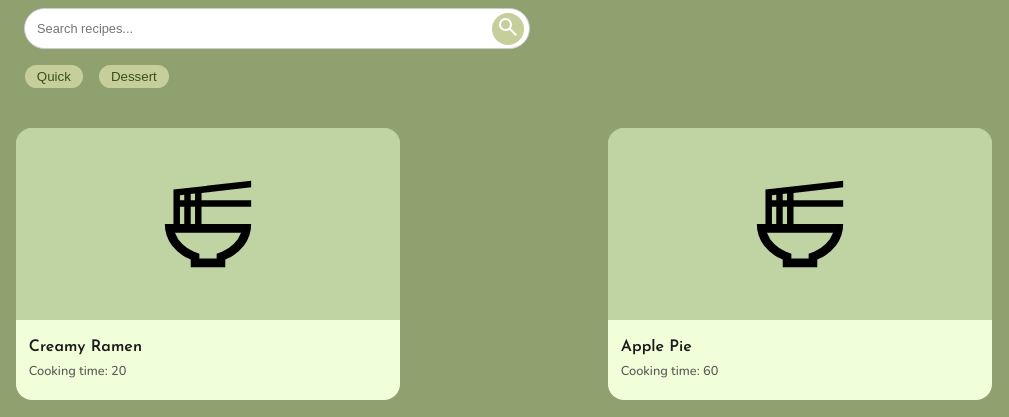
Test: Mainpage › filters recipes by search text and tags
Type "ramen" into the field with placeholder "Search recipes..." at (277, 28), box top-left (24, 8), bottom-right (530, 49)
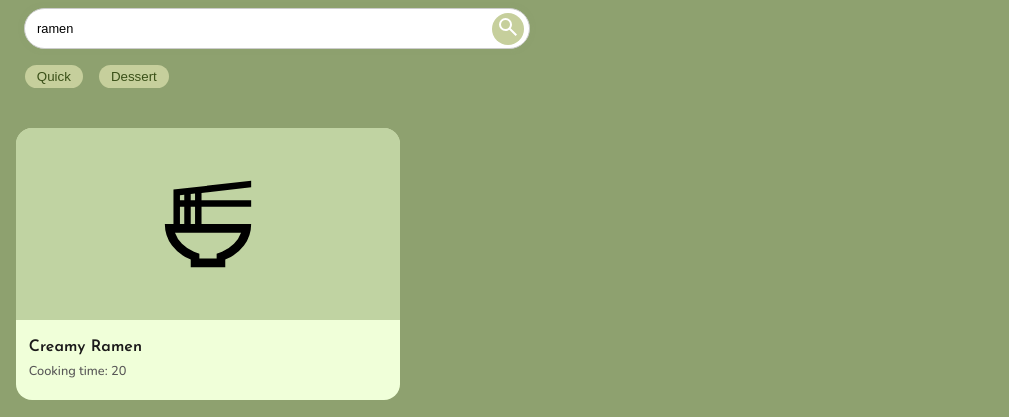
Check: the heading "Creamy Ramen" is shown, box top-left (29, 339), bottom-right (142, 355)
Check: the link "Apple Pie" is gone
Clear the field with placeholder "Search recipes..." at (277, 28), box top-left (24, 8), bottom-right (530, 49)
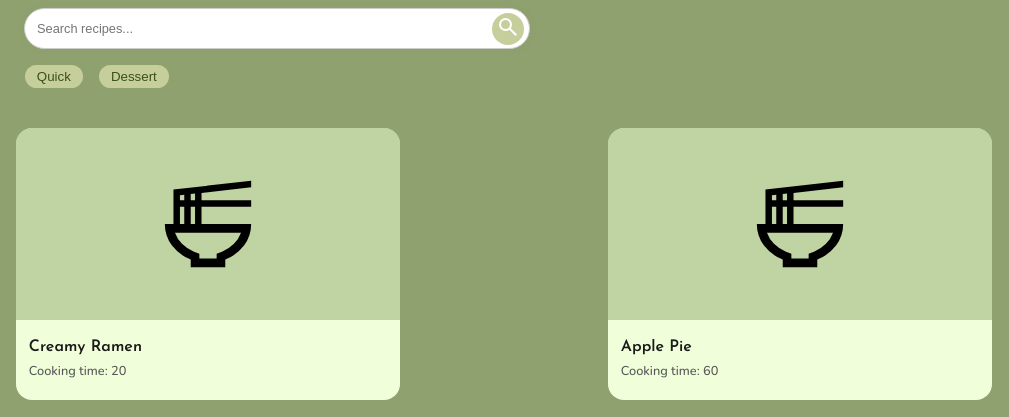
Click the button "Dessert" at (134, 76), box top-left (99, 65), bottom-right (169, 88)
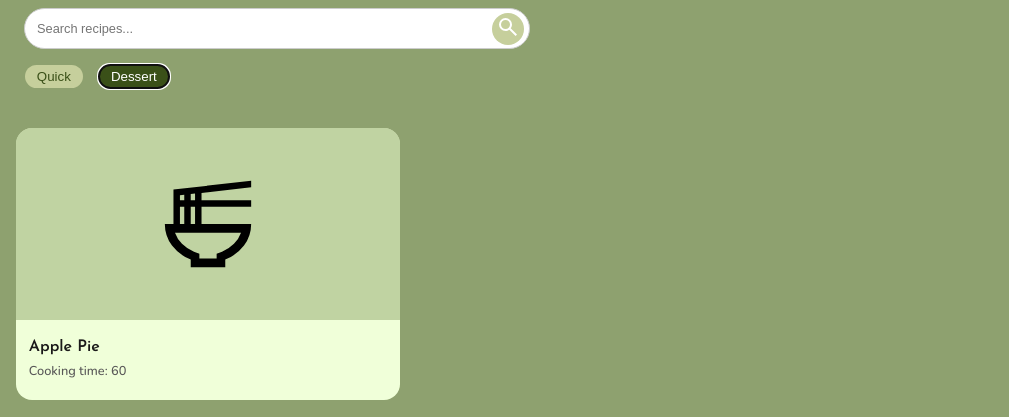
Check: the heading "Apple Pie" is shown, box top-left (29, 339), bottom-right (100, 355)
Check: the link "Creamy Ramen" is gone
